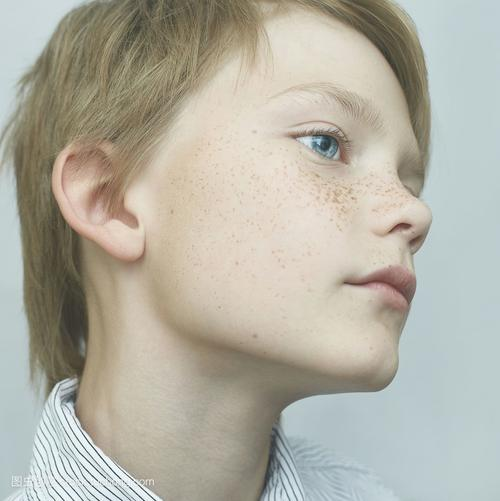no_mask: (4, 2, 437, 393)
